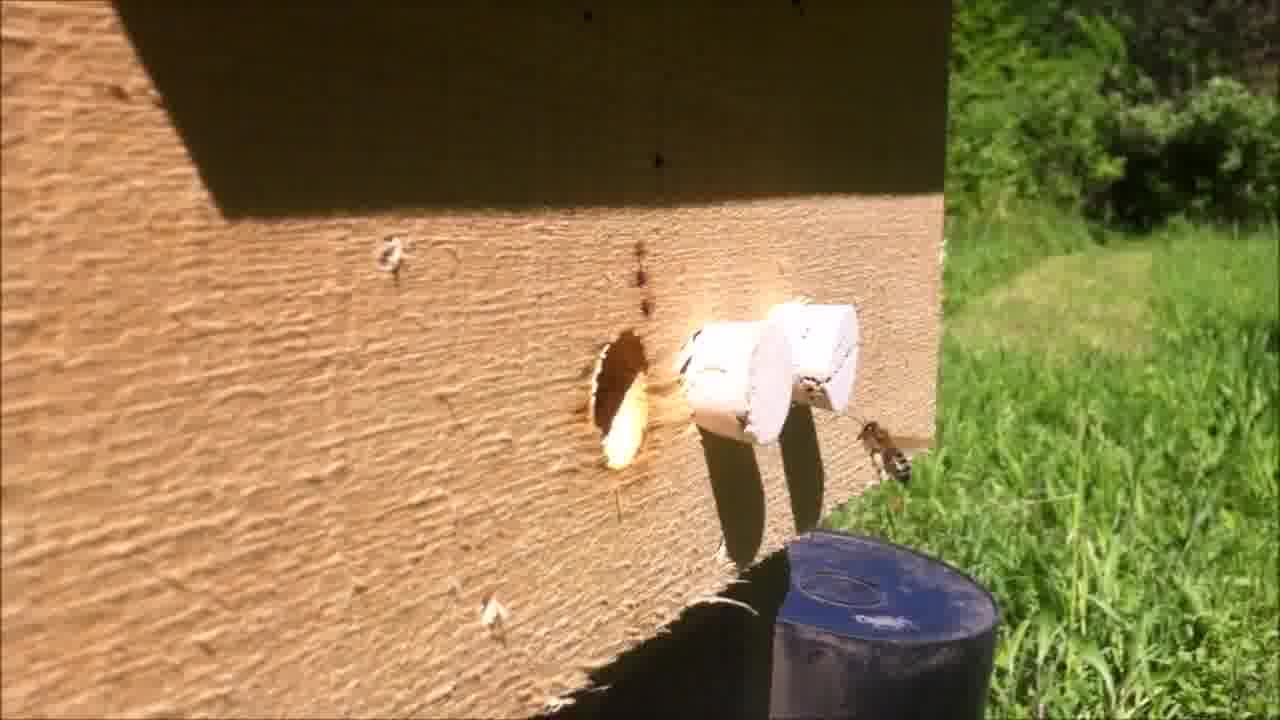pollen: (858, 419, 917, 486)
